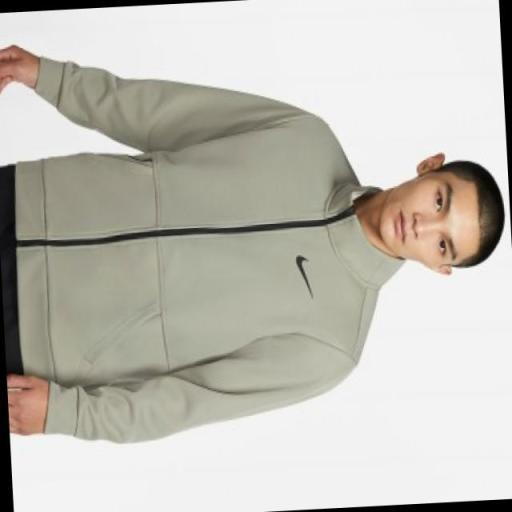Nike: (291, 245, 318, 306)
